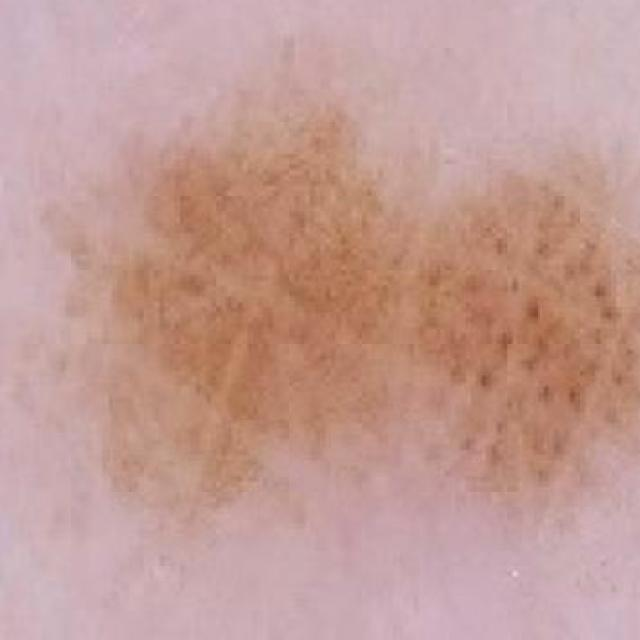BKL: (18, 111, 640, 540)
